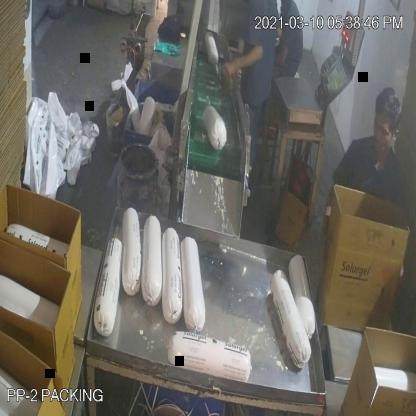no_glove: (219, 42, 269, 87), (321, 178, 338, 281)
